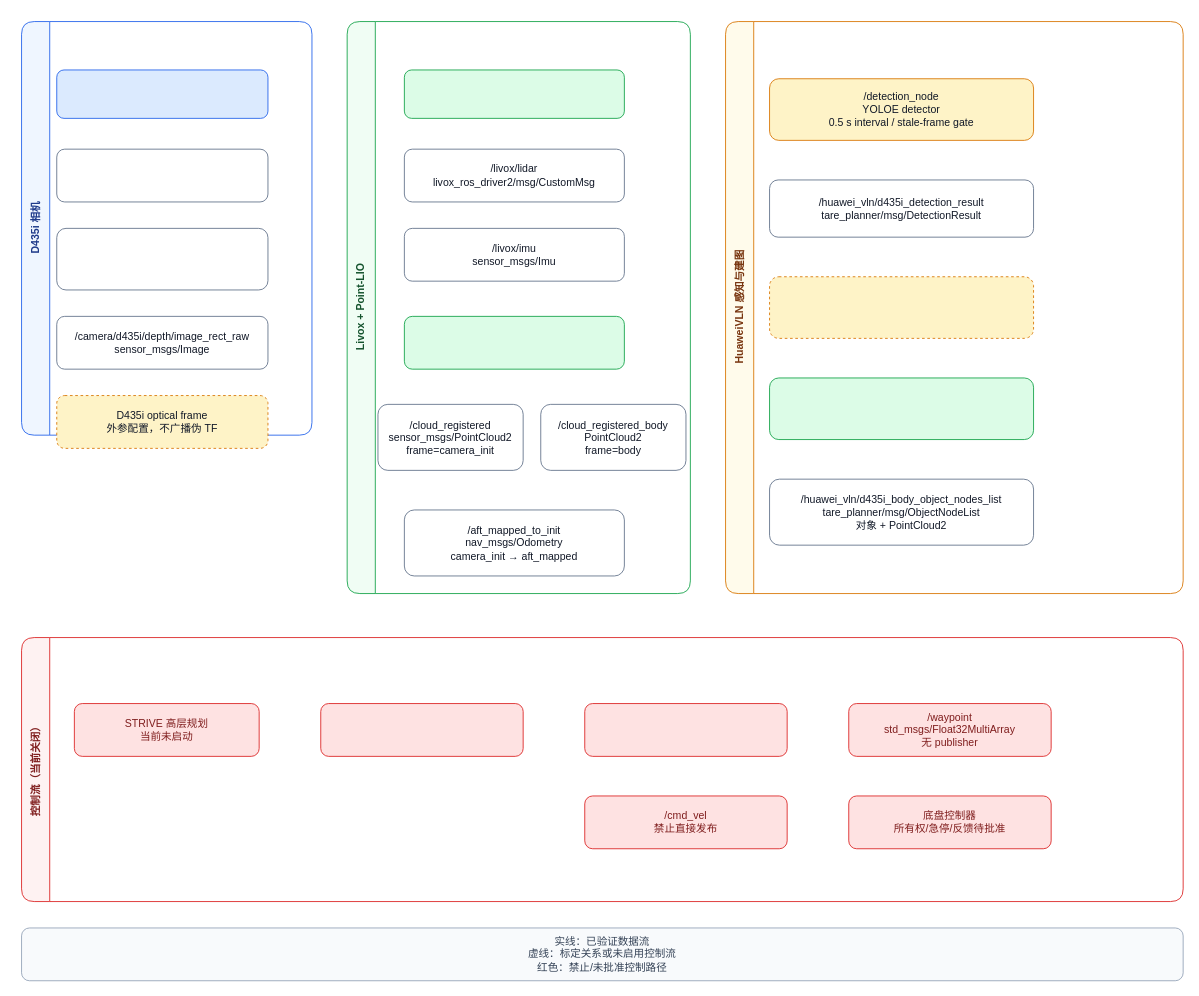
Some shapes in this 1199 by 996 pixel diagram are drawn without their labels. Each missing label, with the centre of its shape:
"/camera/d435i realsense2_camera" belongs at point (162, 93).
"/camera/d435i/color/camera_info sensor_msgs/CameraInfo 1280×720" belongs at point (162, 258).
"/camera/d435i/color/image_raw sensor_msgs/Image" belongs at point (162, 175).
"/d435i_body_semantic_mapping 语义建图节点 body cloud + time sync" belongs at point (901, 408).
"/laserMapping Point-LIO" belongs at point (513, 342).
"/way_point geometry_msgs/PointStamped 无 publisher" belongs at point (421, 729).
"D435i 投影配置 内参 + LiDAR→相机外参 状态：extrinsics_only" belongs at point (901, 307).
"livox_ros_driver2" belongs at point (513, 93).
"Waypoint Adapter output_enabled=false" belongs at point (685, 729).
